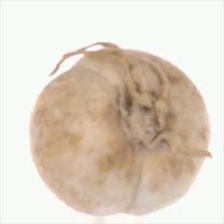L4: (30, 45, 210, 217)
